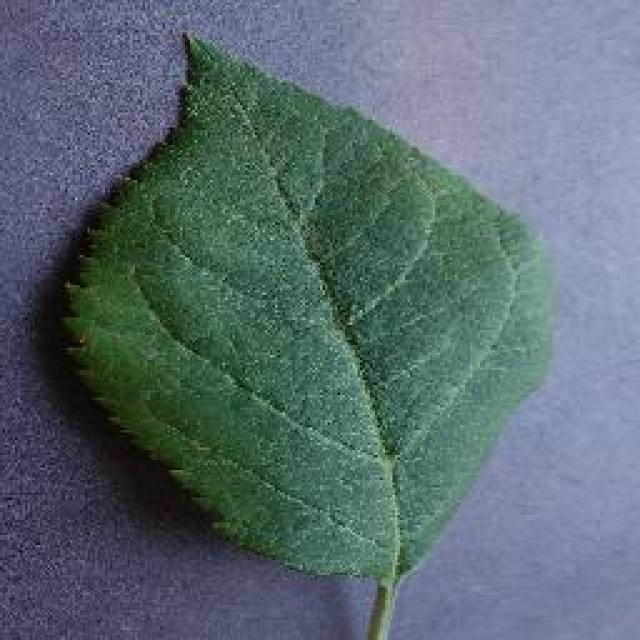apple healthy: (55, 28, 560, 638)
